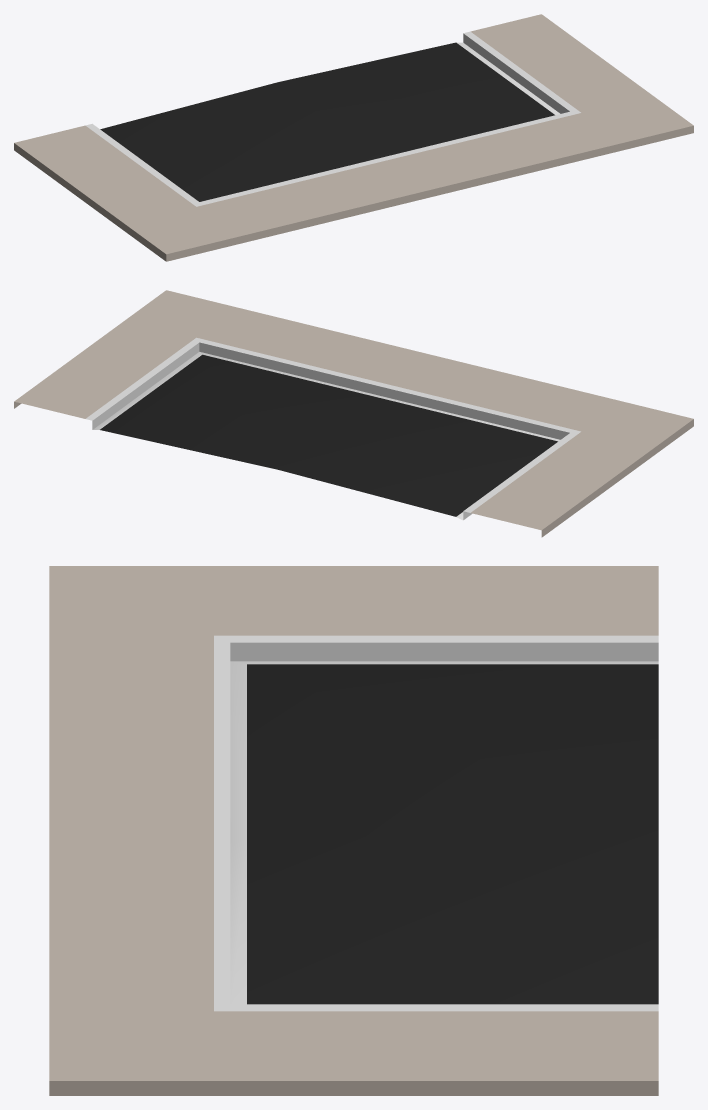
Rendered from Rua_Sem_Saida_4_Faixas.fbx.
The picture shows the model from 3 angles, top to bottom: view 1: azimuth 30°, elevation 25°; view 2: azimuth 150°, elevation 25°; view 3: azimuth 270°, elevation 25°; orthographic projection. The views are drawn at different scales.
Visible parts, largest first — view 1: Rua_Sem_Saida_4_Faixas; view 2: Rua_Sem_Saida_4_Faixas; view 3: Rua_Sem_Saida_4_Faixas.
Boxes of the visible parts, x1,y1,x2,y2 form: Rua_Sem_Saida_4_Faixas: (14, 14, 693, 261); Rua_Sem_Saida_4_Faixas: (14, 290, 693, 537); Rua_Sem_Saida_4_Faixas: (49, 566, 658, 1095).
Size of the model in its own units: 1480 by 25 by 740.
